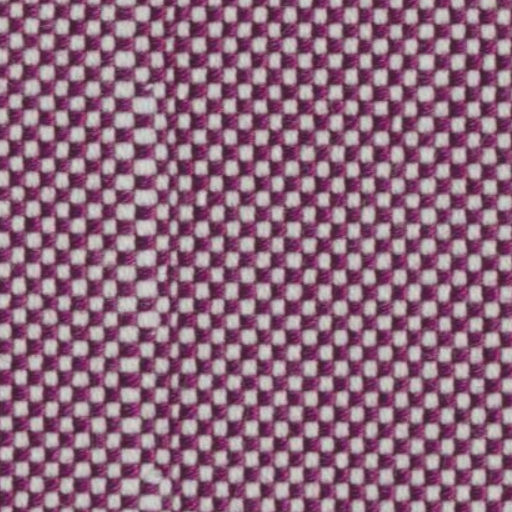TuoSha: (88, 10, 216, 498)
